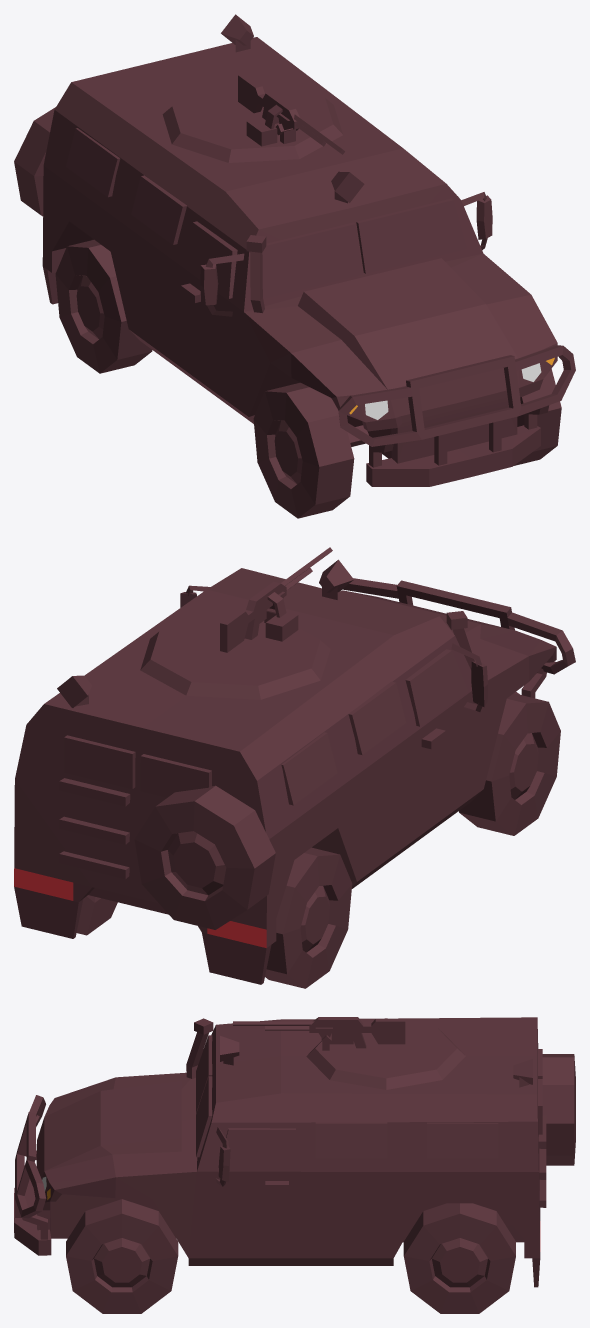
Rendered from SM_Car_Military_B.fbx.
The picture shows the model from 3 angles, top to bottom: view 1: azimuth 30°, elevation 25°; view 2: azimuth 150°, elevation 25°; view 3: azimuth 270°, elevation 25°; orthographic projection. The views are drawn at different scales.
Parts seen in each view (by area): view 1: SM_Car_Military_B_Base, SM_Car_Military_B_Wheel_FR, SM_Car_Military_B_Wheel_BR, SM_Car_Military_B_Wheel_FL; view 2: SM_Car_Military_B_Base, SM_Car_Military_B_Wheel_FR, SM_Car_Military_B_Wheel_BR, SM_Car_Military_B_Wheel_BL; view 3: SM_Car_Military_B_Base, SM_Car_Military_B_Wheel_FL, SM_Car_Military_B_Wheel_BL.
Part boxes in pixels (left/top/right/bottom): SM_Car_Military_B_Base: left=14, top=14, right=575, bottom=486; SM_Car_Military_B_Wheel_FR: left=253, top=382, right=354, bottom=518; SM_Car_Military_B_Wheel_BR: left=55, top=239, right=152, bottom=373; SM_Car_Military_B_Wheel_FL: left=514, top=369, right=561, bottom=465; SM_Car_Military_B_Base: left=14, top=547, right=575, bottom=984; SM_Car_Military_B_Wheel_FR: left=459, top=693, right=560, bottom=835; SM_Car_Military_B_Wheel_BR: left=265, top=847, right=352, bottom=988; SM_Car_Military_B_Wheel_BL: left=76, top=895, right=117, bottom=935; SM_Car_Military_B_Base: left=14, top=1017, right=575, bottom=1287; SM_Car_Military_B_Wheel_FL: left=66, top=1199, right=178, bottom=1313; SM_Car_Military_B_Wheel_BL: left=403, top=1203, right=515, bottom=1313.
Size of the model in its own units: 2.79 by 2.65 by 5.51.
